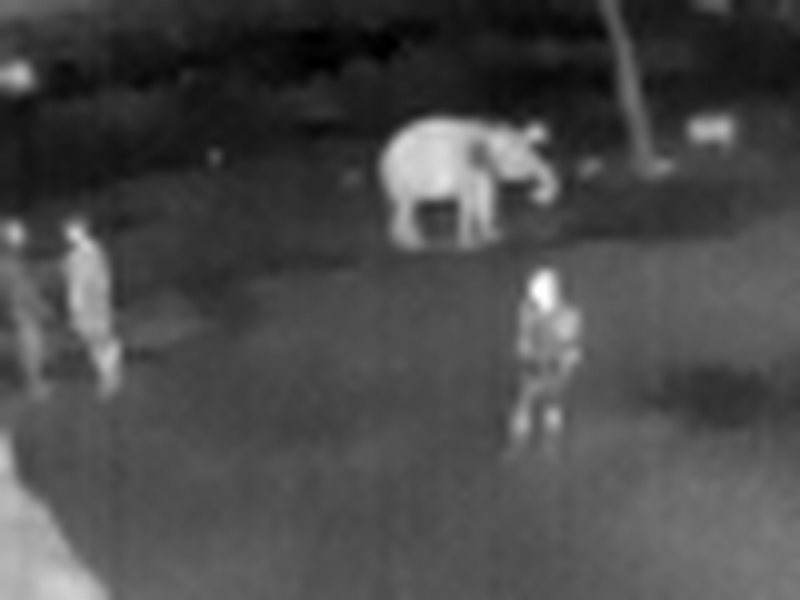elephant: (349, 101, 605, 261)
